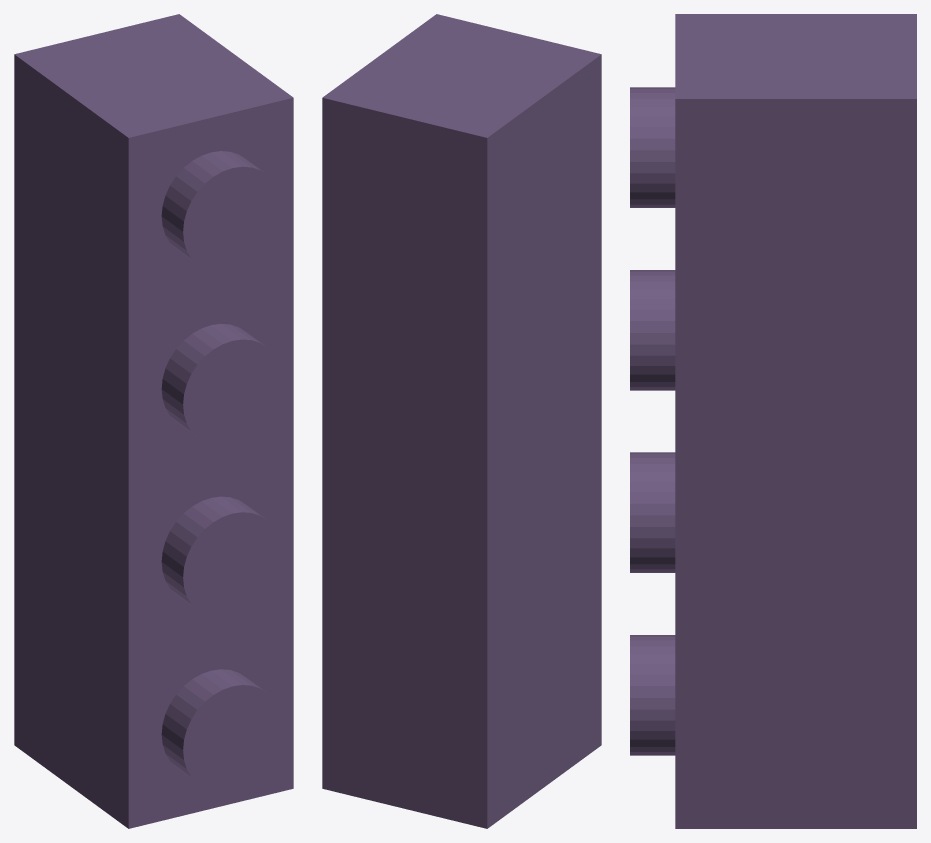
The model's file is brick_1.glb.
3 renders of one model, left to right at view 1: azimuth 30°, elevation 25°; view 2: azimuth 150°, elevation 25°; view 3: azimuth 270°, elevation 25°, orthographic. The views are drawn at different scales.
Visible parts, largest first — view 1: world; view 2: world; view 3: world.
Part boxes in pixels (bbox=[...]): world: bbox=[14, 14, 293, 828]; world: bbox=[322, 14, 601, 828]; world: bbox=[630, 14, 916, 828].
Size of the model in its own units: 8 by 32 by 11.4.
